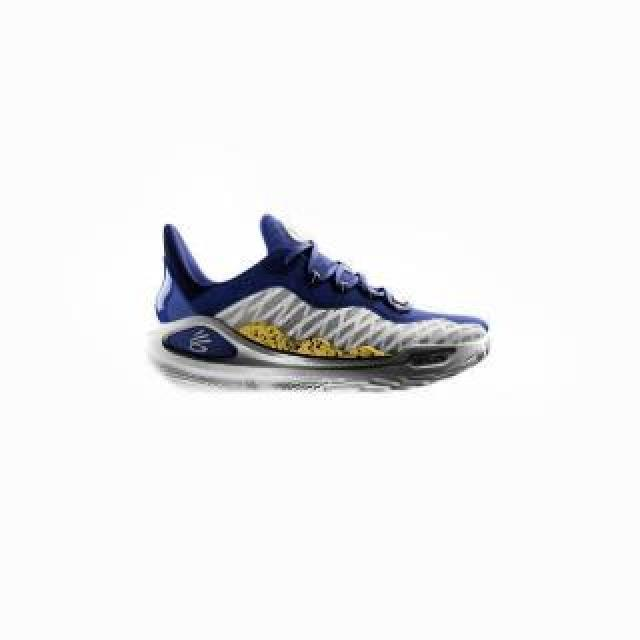shoes: (148, 215, 494, 393)
